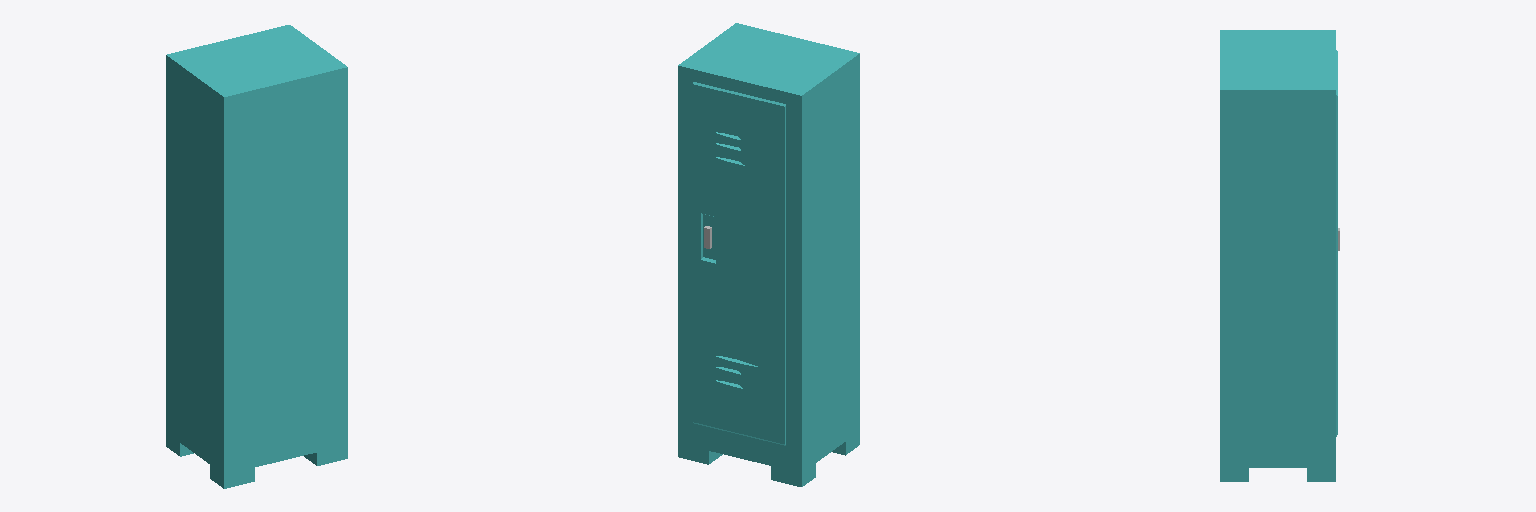
File: lockerblue.obj
3 views of the same model, side by side, from view 1: azimuth 30°, elevation 25°; view 2: azimuth 150°, elevation 25°; view 3: azimuth 270°, elevation 25° (orthographic).
Parts seen in each view (by area): view 1: Cube_Cube.041; view 2: Cube_Cube.041; view 3: Cube_Cube.041.
Part boxes in pixels (x1,y1,x2,y2): Cube_Cube.041: (166, 25, 347, 488); Cube_Cube.041: (678, 23, 859, 486); Cube_Cube.041: (1220, 30, 1339, 481).
Size of the model in its own units: 1.65 by 4.96 by 1.39.